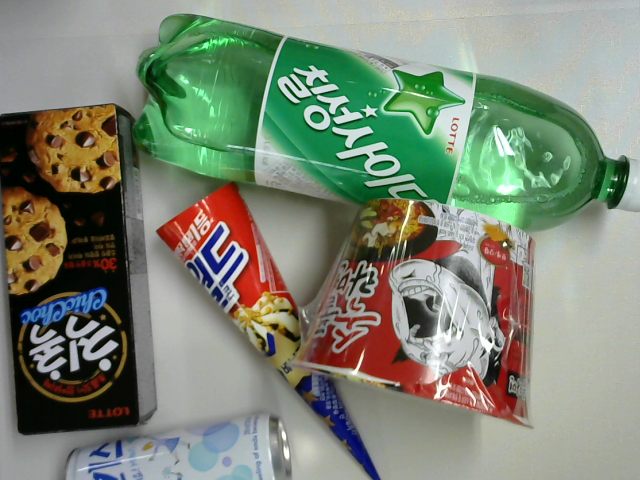Chicchok_Original_2400: (1, 99, 166, 442)
Chilseong_Cider_1.5L: (130, 10, 640, 234)
Hejangpul: (290, 192, 543, 437)
Milkies_250ml: (56, 411, 301, 480)
World_Cone_Banila: (156, 178, 389, 480)
